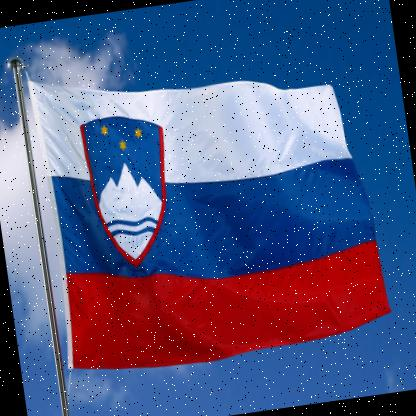si: (26, 31, 397, 384)
